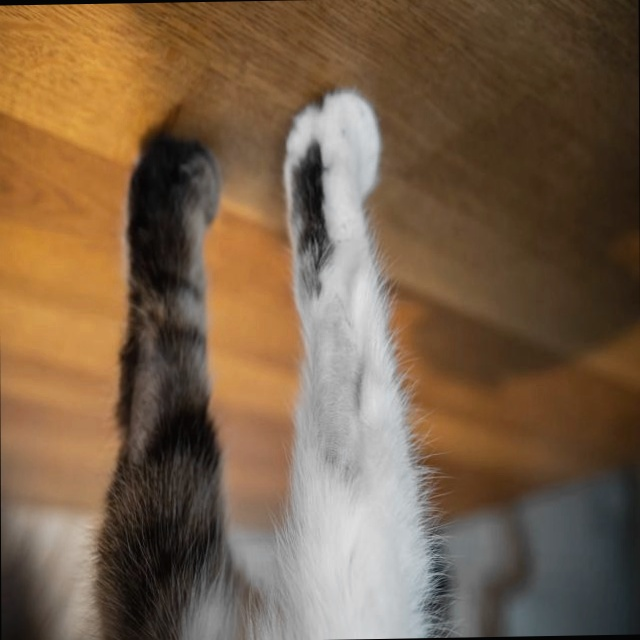hairloss: (298, 281, 369, 490)
